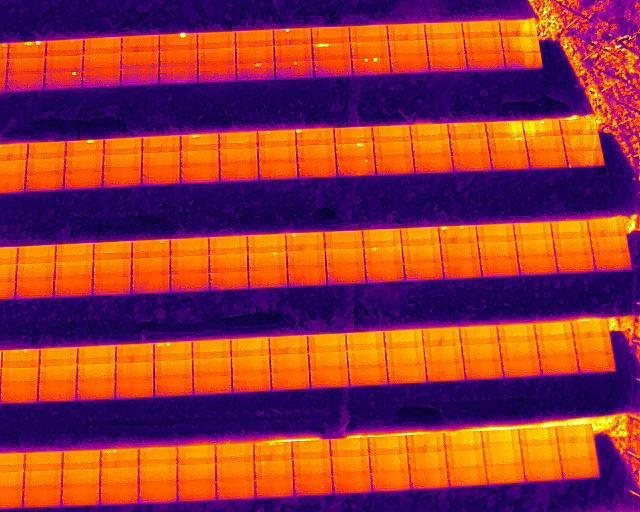Cell: (286, 232, 325, 250), (254, 461, 293, 479), (236, 63, 274, 81), (45, 71, 83, 89), (365, 247, 402, 265), (180, 133, 219, 150), (65, 139, 104, 156), (275, 61, 313, 78), (258, 130, 296, 147), (159, 33, 197, 50), (274, 28, 311, 45), (295, 129, 333, 145), (336, 143, 373, 159)
Cell-Multi: (100, 447, 139, 467), (153, 341, 192, 360), (1, 348, 39, 367), (439, 225, 477, 242), (8, 41, 46, 58), (353, 57, 389, 74)
No-Anomaly: (22, 486, 62, 508), (248, 268, 287, 289), (61, 485, 100, 506), (524, 462, 564, 482), (293, 476, 333, 496), (191, 339, 231, 359), (115, 379, 155, 399), (37, 381, 77, 401), (177, 481, 216, 501), (138, 483, 177, 503), (100, 484, 139, 504), (230, 336, 269, 356), (231, 355, 270, 375), (76, 380, 115, 400), (138, 447, 177, 467), (486, 464, 524, 484), (255, 479, 293, 499), (153, 376, 193, 395), (0, 383, 38, 403), (141, 166, 180, 185), (63, 170, 102, 189), (170, 237, 209, 256), (288, 267, 327, 286), (170, 273, 209, 292), (132, 275, 171, 294), (54, 278, 93, 297), (423, 328, 462, 347), (446, 448, 485, 467), (61, 450, 100, 469), (23, 451, 62, 470), (217, 480, 256, 499), (39, 347, 78, 366), (425, 362, 464, 381), (271, 371, 310, 390), (232, 373, 271, 392), (368, 436, 407, 455), (215, 443, 254, 462), (461, 325, 498, 345), (562, 459, 599, 479), (132, 239, 170, 258), (518, 255, 556, 274), (346, 332, 384, 351), (308, 334, 346, 353), (349, 366, 387, 385), (310, 369, 348, 388), (519, 428, 557, 447), (485, 446, 523, 465), (177, 446, 215, 465), (369, 454, 409, 472), (447, 468, 487, 486), (385, 330, 422, 349), (407, 434, 444, 453), (219, 164, 258, 182), (103, 169, 142, 187), (513, 222, 552, 240), (247, 234, 286, 252), (55, 243, 94, 261), (17, 245, 56, 263), (325, 248, 364, 266), (209, 254, 248, 272), (170, 255, 209, 273), (209, 272, 248, 290), (293, 459, 332, 477), (332, 475, 371, 493), (120, 51, 159, 69), (159, 65, 198, 83), (6, 73, 45, 91), (27, 141, 66, 159), (269, 335, 308, 353), (115, 343, 154, 361), (77, 345, 116, 363), (193, 357, 232, 375), (115, 361, 154, 379), (193, 376, 232, 394), (558, 252, 593, 272), (502, 340, 537, 360), (580, 353, 615, 373), (26, 173, 64, 191), (401, 227, 439, 245), (325, 231, 363, 249), (94, 242, 132, 260), (94, 259, 132, 277), (499, 323, 535, 342), (409, 451, 445, 470), (332, 457, 370, 475), (216, 462, 254, 480), (386, 347, 424, 365), (348, 350, 386, 368), (388, 365, 426, 383), (235, 30, 273, 48), (331, 439, 369, 457), (292, 441, 330, 459), (401, 246, 441, 263), (286, 250, 326, 267), (247, 252, 287, 269), (364, 229, 401, 247), (554, 237, 591, 255), (482, 258, 519, 276), (428, 53, 465, 71), (314, 58, 351, 76), (259, 146, 296, 164), (298, 160, 335, 178), (463, 344, 500, 362), (542, 355, 577, 374), (557, 425, 592, 444), (181, 166, 220, 183), (209, 237, 248, 254), (131, 257, 170, 274), (442, 261, 481, 278), (54, 261, 93, 278), (16, 263, 55, 280), (404, 264, 443, 281), (365, 266, 404, 283), (327, 267, 366, 284), (92, 277, 131, 294), (15, 280, 54, 297), (177, 464, 216, 481), (138, 465, 177, 482), (371, 473, 410, 490), (235, 46, 274, 63), (82, 54, 121, 71), (120, 68, 159, 85), (218, 131, 257, 148), (142, 136, 181, 153), (103, 153, 142, 170), (65, 155, 104, 172), (308, 352, 347, 369), (536, 322, 572, 340), (411, 470, 447, 488), (454, 153, 490, 171), (483, 429, 519, 447), (559, 443, 595, 461), (476, 225, 514, 242), (516, 240, 554, 257), (479, 242, 517, 259), (596, 251, 630, 270), (100, 467, 138, 484), (62, 468, 100, 485), (467, 53, 505, 70), (198, 65, 236, 82), (83, 70, 121, 87), (104, 138, 142, 155), (311, 26, 349, 43), (425, 346, 463, 363), (271, 354, 309, 371), (154, 360, 192, 377), (77, 362, 115, 379), (83, 37, 121, 54), (254, 444, 292, 461), (522, 445, 560, 462), (539, 339, 574, 357), (504, 358, 539, 376), (571, 320, 608, 337), (465, 37, 502, 54), (351, 41, 388, 58), (412, 124, 449, 141), (335, 127, 372, 144), (337, 159, 374, 176), (465, 361, 502, 378), (45, 40, 84, 56), (24, 470, 63, 486), (196, 32, 235, 48), (120, 35, 159, 51), (553, 220, 587, 238), (442, 242, 478, 259), (463, 21, 499, 38), (426, 22, 462, 39), (427, 38, 463, 55), (392, 56, 428, 73), (524, 119, 560, 136), (487, 121, 523, 138), (568, 149, 602, 167), (415, 156, 451, 173), (197, 48, 235, 64), (44, 55, 82, 71), (220, 147, 258, 163), (181, 150, 219, 166), (27, 157, 65, 173), (259, 162, 297, 178), (1, 367, 39, 383), (445, 432, 483, 448), (38, 365, 78, 380), (506, 52, 541, 69), (374, 126, 409, 143), (528, 136, 563, 153), (299, 145, 334, 162), (531, 151, 566, 168), (493, 153, 528, 170), (377, 157, 412, 174), (594, 236, 627, 254), (388, 24, 425, 40), (274, 45, 311, 61), (6, 58, 45, 73), (491, 137, 525, 154), (390, 40, 426, 56), (449, 123, 485, 139), (575, 338, 611, 354), (142, 152, 180, 167), (590, 220, 623, 237), (565, 135, 600, 151), (376, 142, 411, 158), (503, 37, 538, 53), (413, 142, 450, 157), (159, 50, 198, 64), (501, 20, 535, 36), (350, 26, 386, 41), (561, 120, 596, 134), (453, 139, 488, 153)
Unclassified: (313, 42, 350, 59)
